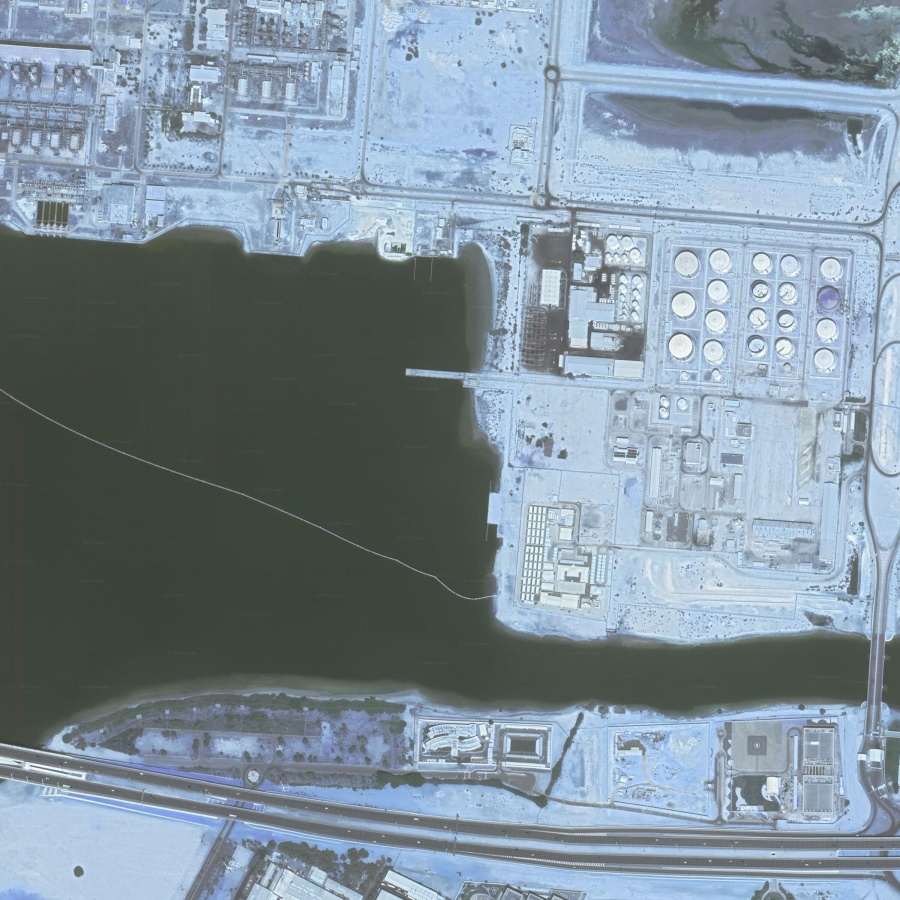PowerPlant: (502, 215, 858, 416)
